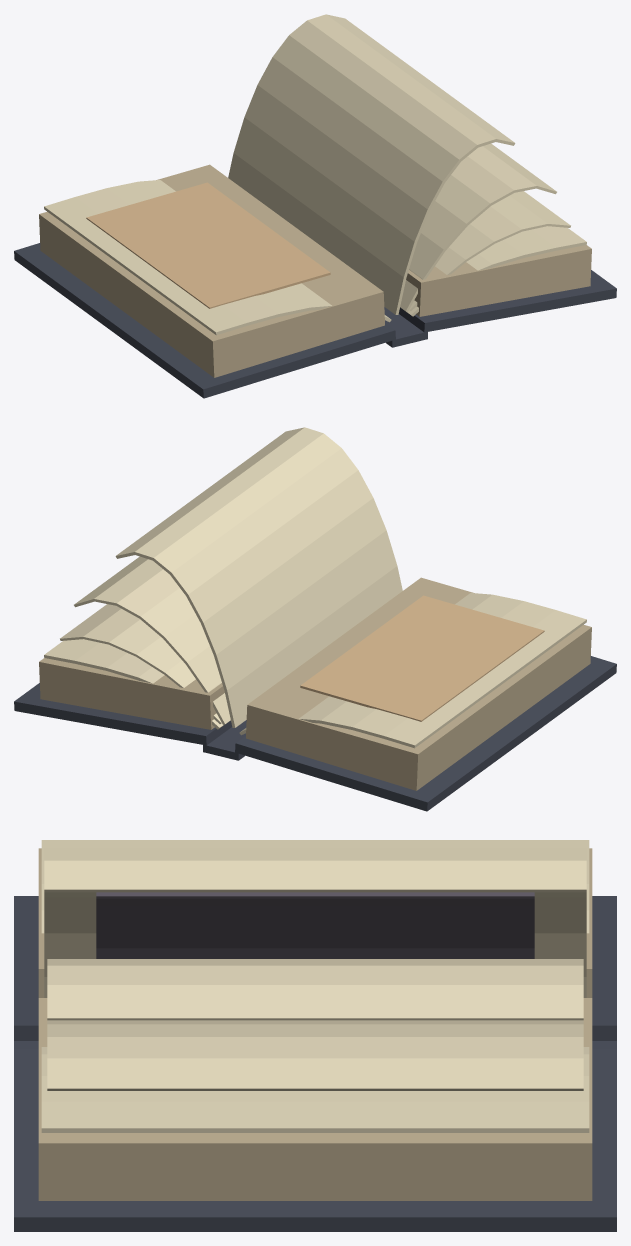
The model's file is libro_abierto.glb.
3 renders of one model, top to bottom at view 1: azimuth 30°, elevation 25°; view 2: azimuth 150°, elevation 25°; view 3: azimuth 270°, elevation 25°, orthographic. The views are drawn at different scales.
Visible parts, largest first — view 1: Book_Pages, Book_Illustrations, Book_Cover; view 2: Book_Pages, Book_Illustrations, Book_Cover; view 3: Book_Pages, Book_Cover, Book_Illustrations.
Boxes of the visible parts, left/top/right/bottom form: Book_Pages: left=39, top=14, right=591, bottom=377; Book_Illustrations: left=86, top=182, right=330, bottom=308; Book_Cover: left=14, top=243, right=616, bottom=398; Book_Pages: left=39, top=427, right=591, bottom=790; Book_Illustrations: left=300, top=595, right=544, bottom=721; Book_Cover: left=14, top=656, right=616, bottom=811; Book_Pages: left=38, top=840, right=592, bottom=1200; Book_Cover: left=14, top=896, right=616, bottom=1231; Book_Illustrations: left=96, top=892, right=534, bottom=958.
Size of the model in its own units: 1.16 by 0.4799 by 0.92.
